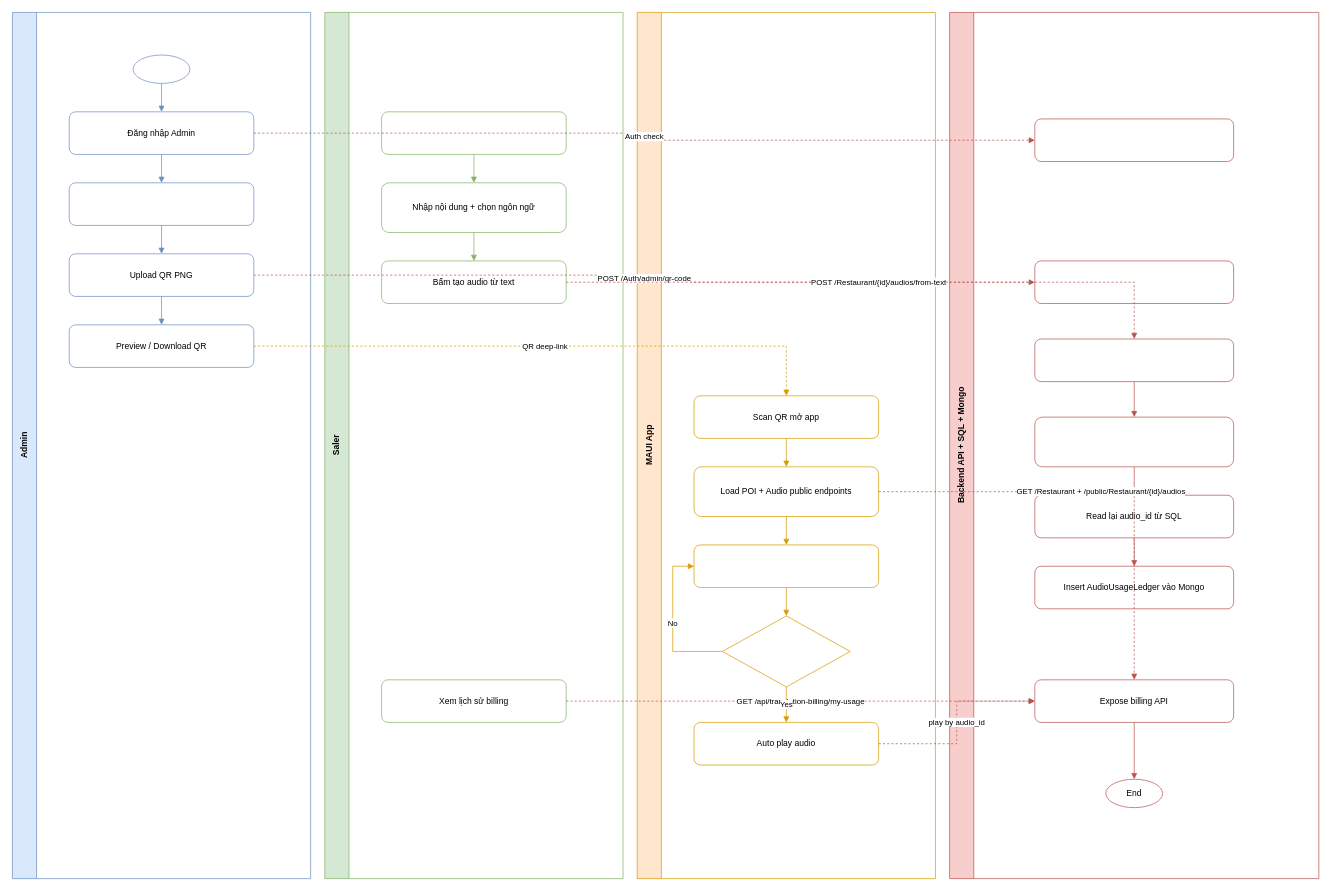
Image size: 1331x891. Some labels were removed from this diagram. The shapes that lost their labels are listed below. From the top down, each one's centre as x and y in pixels, then its label:
[161,68]: Start
[473,132]: Đăng nhập Saler
[1134,140]: Validate cookie + role
[161,203]: Mở trang quản lý QR
[1134,282]: Lưu QR vào wwwroot/uploads/qr
[1134,360]: Edge-TTS synthesize
[1134,441]: Insert Audio vào SQL (audio_id identity)
[786,566]: Theo dõi vị trí (2s)
[786,651]: Vào geofence?
